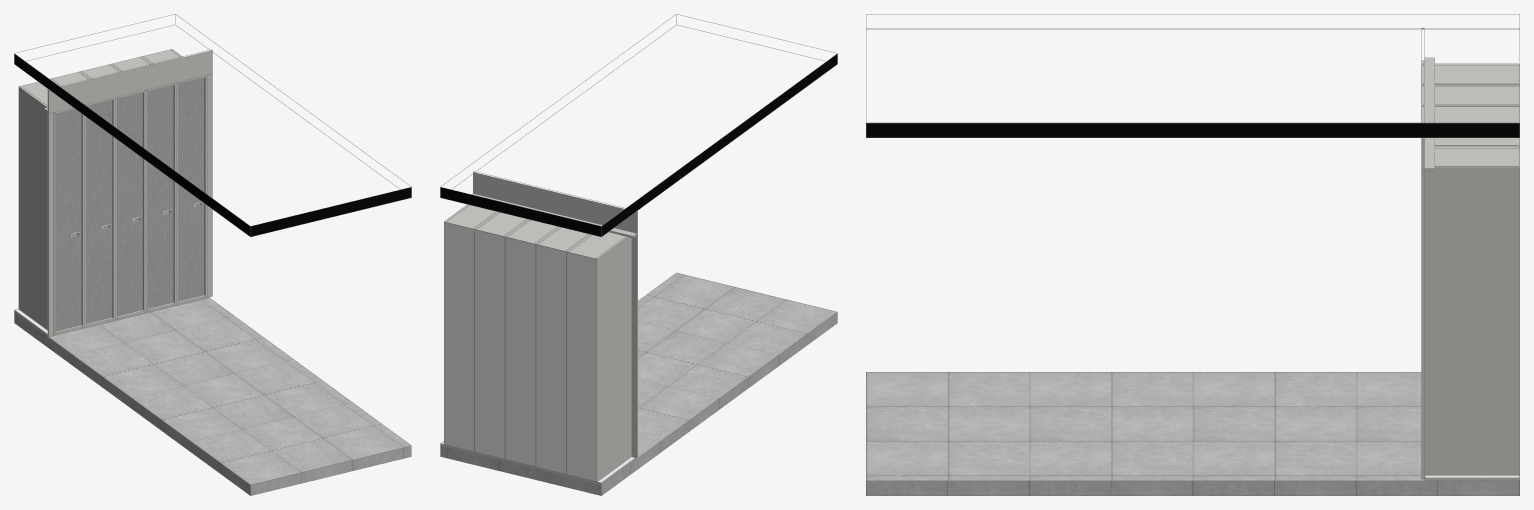
File: modell.glb
3 renders of one model, left to right at view 1: azimuth 30°, elevation 25°; view 2: azimuth 150°, elevation 25°; view 3: azimuth 270°, elevation 25°, orthographic. The views are drawn at different scales.
Bounding box in the file's own units: 1604 × 2521 × 4004.
11 materials, 4 textured.
